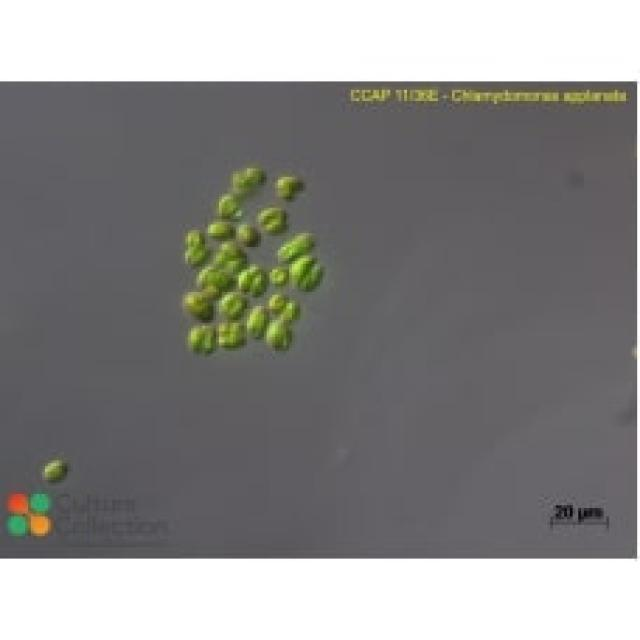Green Algae: (230, 160, 264, 194), (269, 168, 306, 196), (180, 284, 213, 314), (244, 303, 270, 340), (236, 219, 264, 250), (177, 238, 208, 266), (205, 216, 239, 239), (219, 289, 244, 320), (42, 457, 70, 483), (269, 317, 292, 348), (241, 269, 267, 295), (278, 233, 317, 250), (185, 320, 208, 348), (292, 256, 312, 284), (213, 194, 236, 213), (256, 208, 286, 222), (228, 323, 245, 345), (211, 255, 233, 272), (267, 295, 286, 309)
